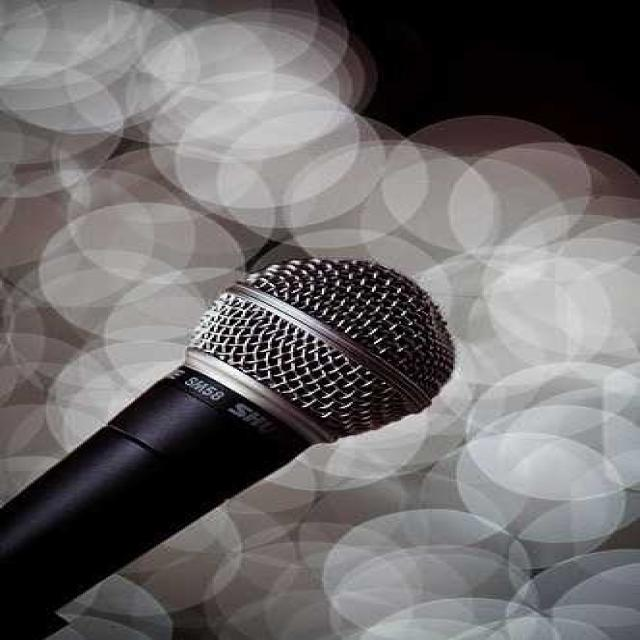microphone: (6, 261, 452, 633)
